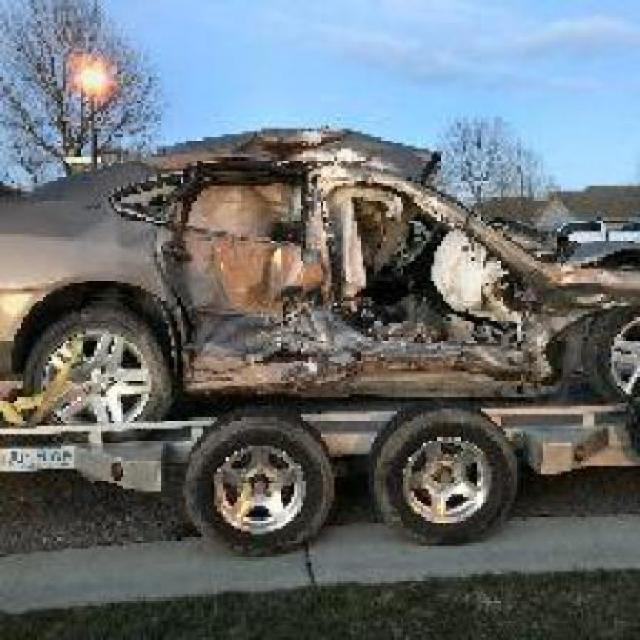damaged-door: (337, 169, 520, 374), (174, 169, 337, 388)
